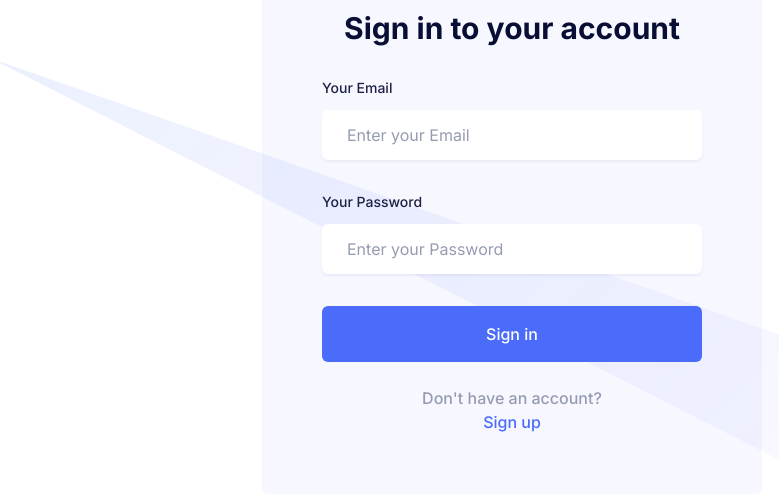
Test: Sign in functionality › Should show email & password required errors if no text is provided
Click the button at [512, 334], box [322, 306, 702, 362]
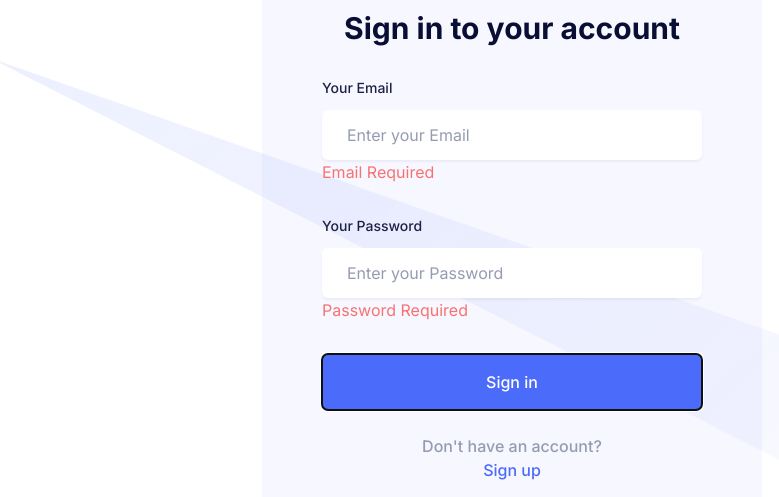
expect the text "Email Required" is shown: met, box [322, 162, 434, 182]
expect the text "Password Required" is shown: met, box [322, 300, 468, 320]
